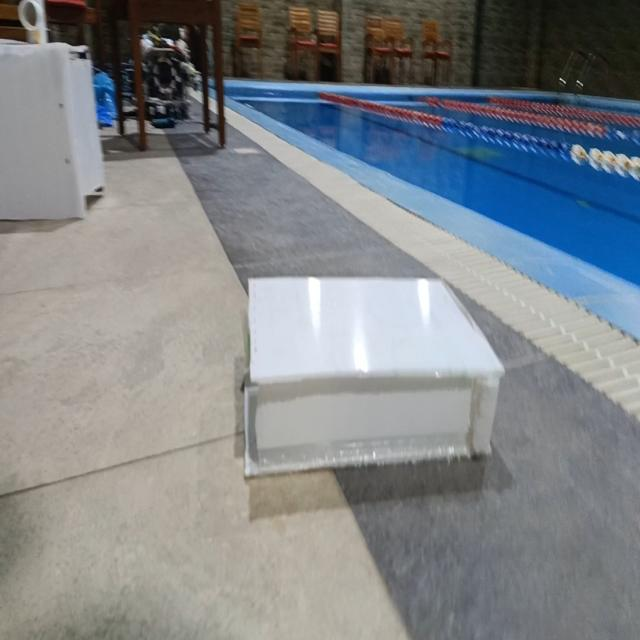Cube: (0, 39, 106, 222)
Cuboid: (243, 273, 505, 478)
